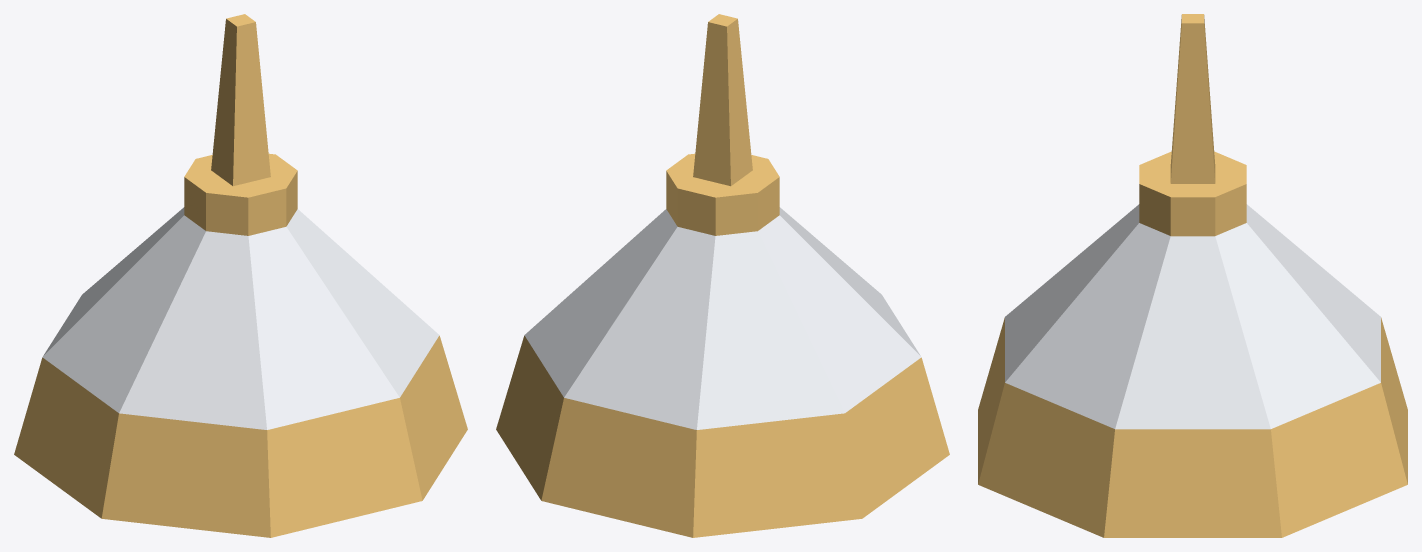
Rendered from rocket_topB.glb.
The picture shows the model from 3 angles, left to right: view 1: azimuth 30°, elevation 25°; view 2: azimuth 150°, elevation 25°; view 3: azimuth 270°, elevation 25°; orthographic projection.
Parts seen in each view (by area): view 1: rocket_topB; view 2: rocket_topB; view 3: rocket_topB.
Boxes of the visible parts, box(x1,y1,x2,y2) form: rocket_topB: box(14, 14, 467, 537); rocket_topB: box(496, 14, 949, 537); rocket_topB: box(978, 14, 1407, 537).
Bounding box in the file's own units: 1 × 1.1 × 1.
